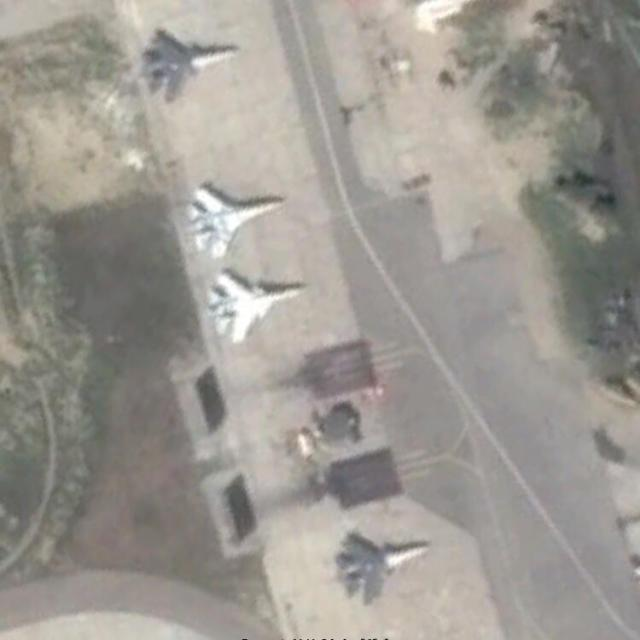fighter jet: (199, 262, 306, 336), (132, 24, 235, 99), (324, 526, 428, 599), (177, 179, 284, 243)
